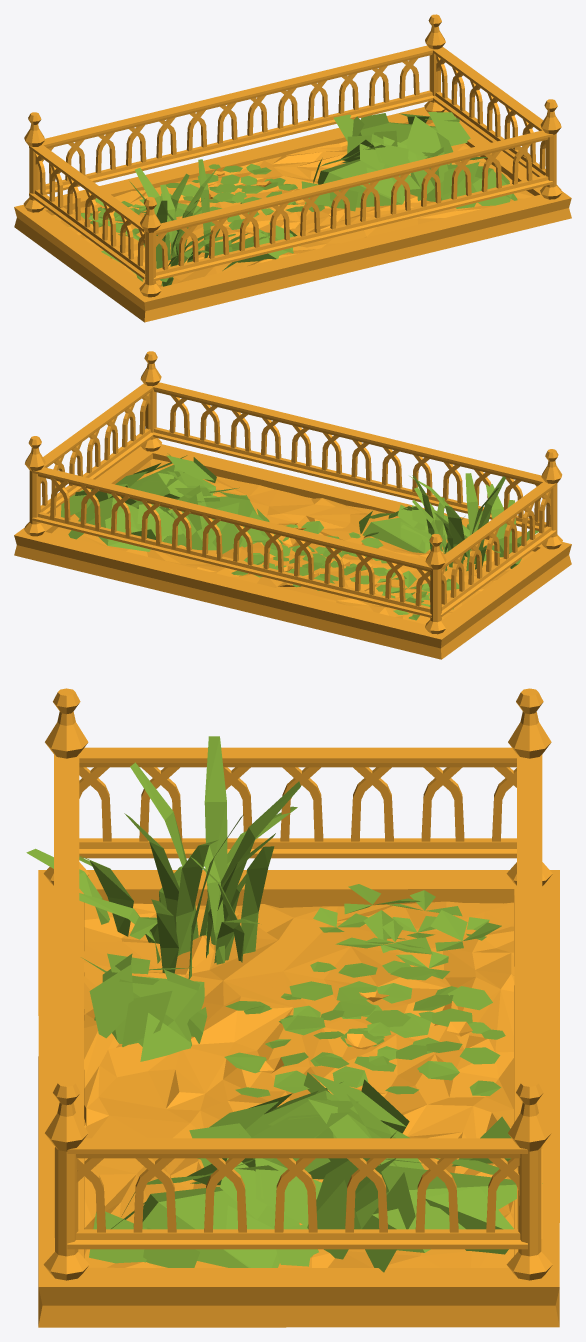
File: SM_Tree_Pot_City_B_2m_Foliage.fbx
3 renders of one model, top to bottom at view 1: azimuth 30°, elevation 25°; view 2: azimuth 150°, elevation 25°; view 3: azimuth 270°, elevation 25°, orthographic. The views are drawn at different scales.
Visible parts, largest first — view 1: SM_Tree_Pot_City_B_2m_Foliage; view 2: SM_Tree_Pot_City_B_2m_Foliage; view 3: SM_Tree_Pot_City_B_2m_Foliage.
Part boxes in pixels (bbox=[...]): SM_Tree_Pot_City_B_2m_Foliage: bbox=[14, 14, 571, 322]; SM_Tree_Pot_City_B_2m_Foliage: bbox=[14, 351, 571, 659]; SM_Tree_Pot_City_B_2m_Foliage: bbox=[26, 688, 559, 1327].
Size of the model in its own units: 2.13 by 0.5692 by 1.15.
